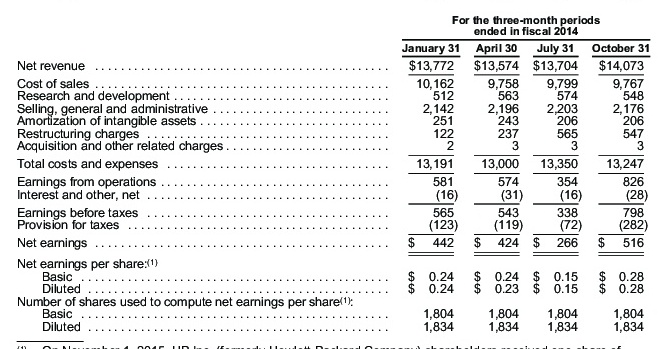table: (0, 0, 665, 349)
